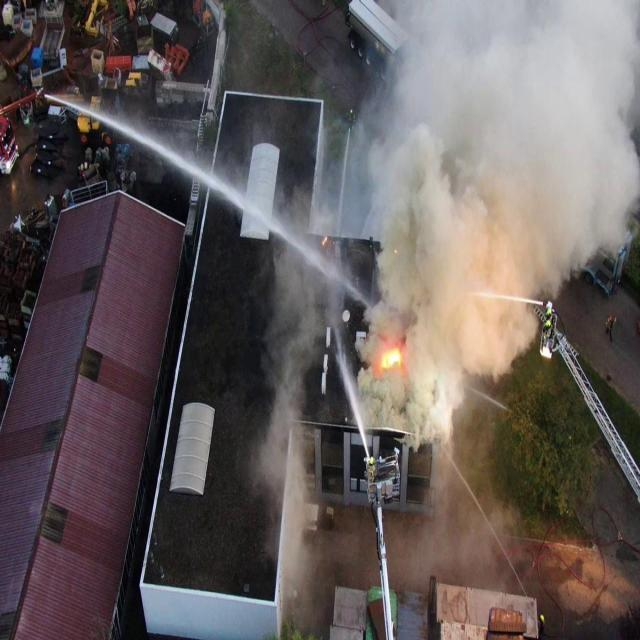Fire: (380, 348, 401, 368), (322, 236, 327, 245)
Smoke: (256, 0, 640, 605)
